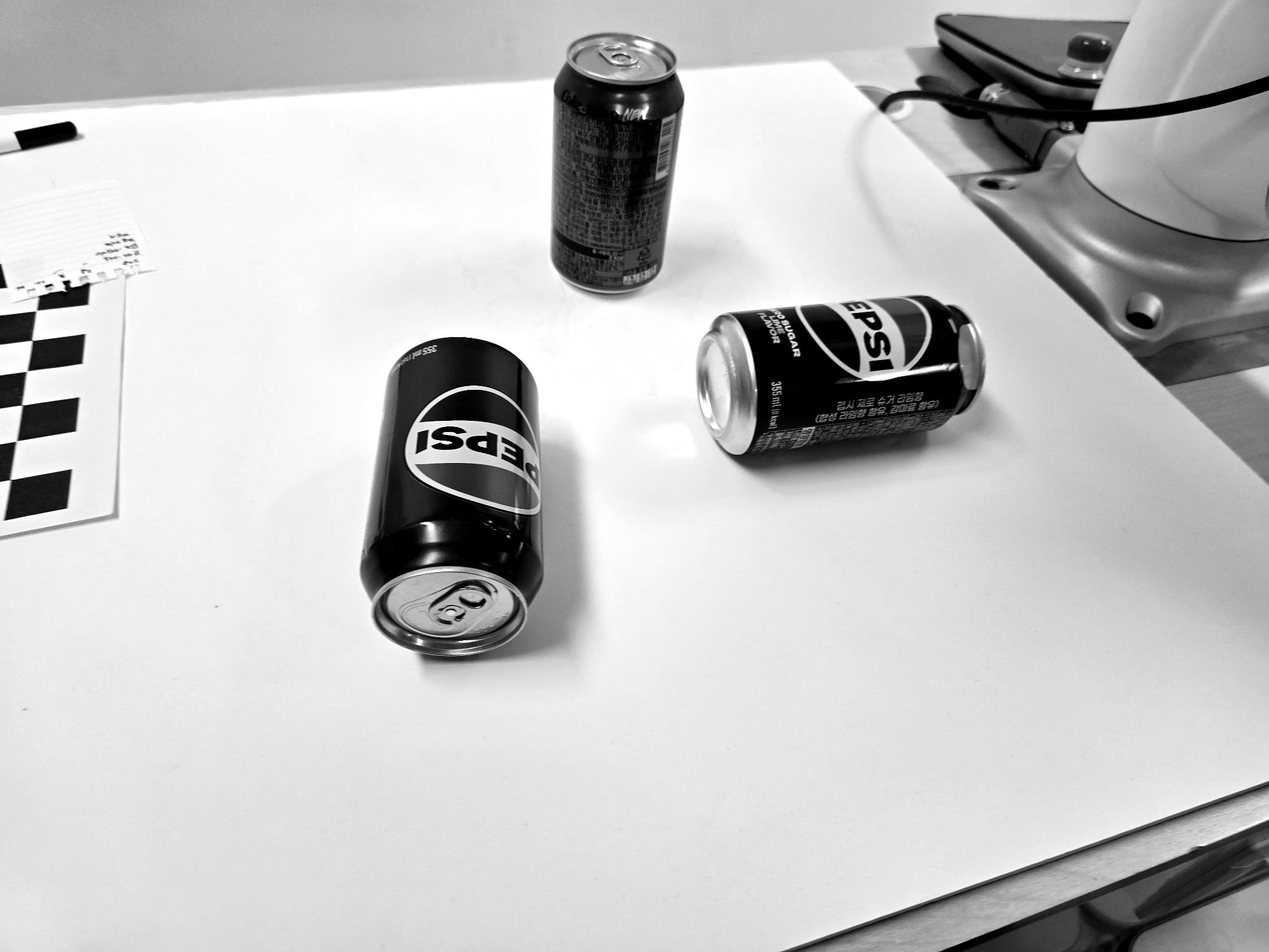can_coke_zero: (552, 32, 684, 293)
can_pepsi: (361, 337, 543, 656)
can_pepsi_zero: (696, 295, 986, 455)
